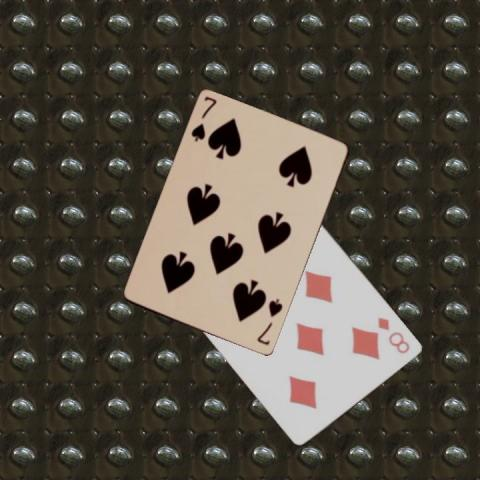7s: (188, 93, 219, 144), (254, 296, 284, 347)
8d: (375, 314, 412, 355)
